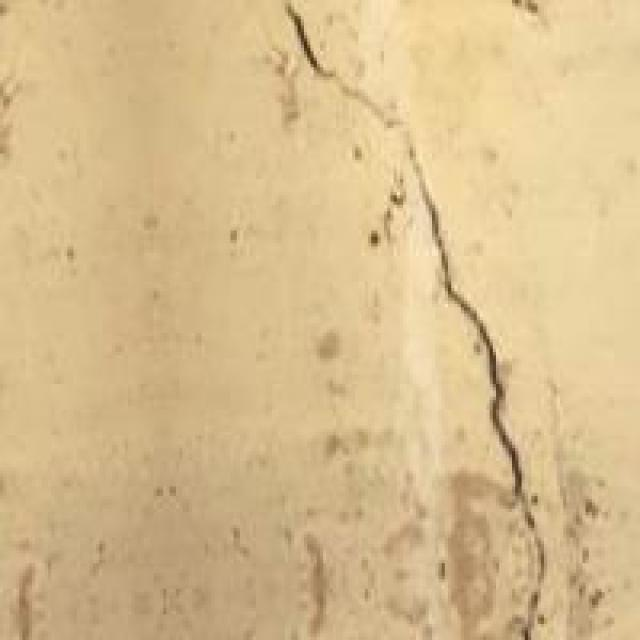crack: (276, 3, 598, 586)
